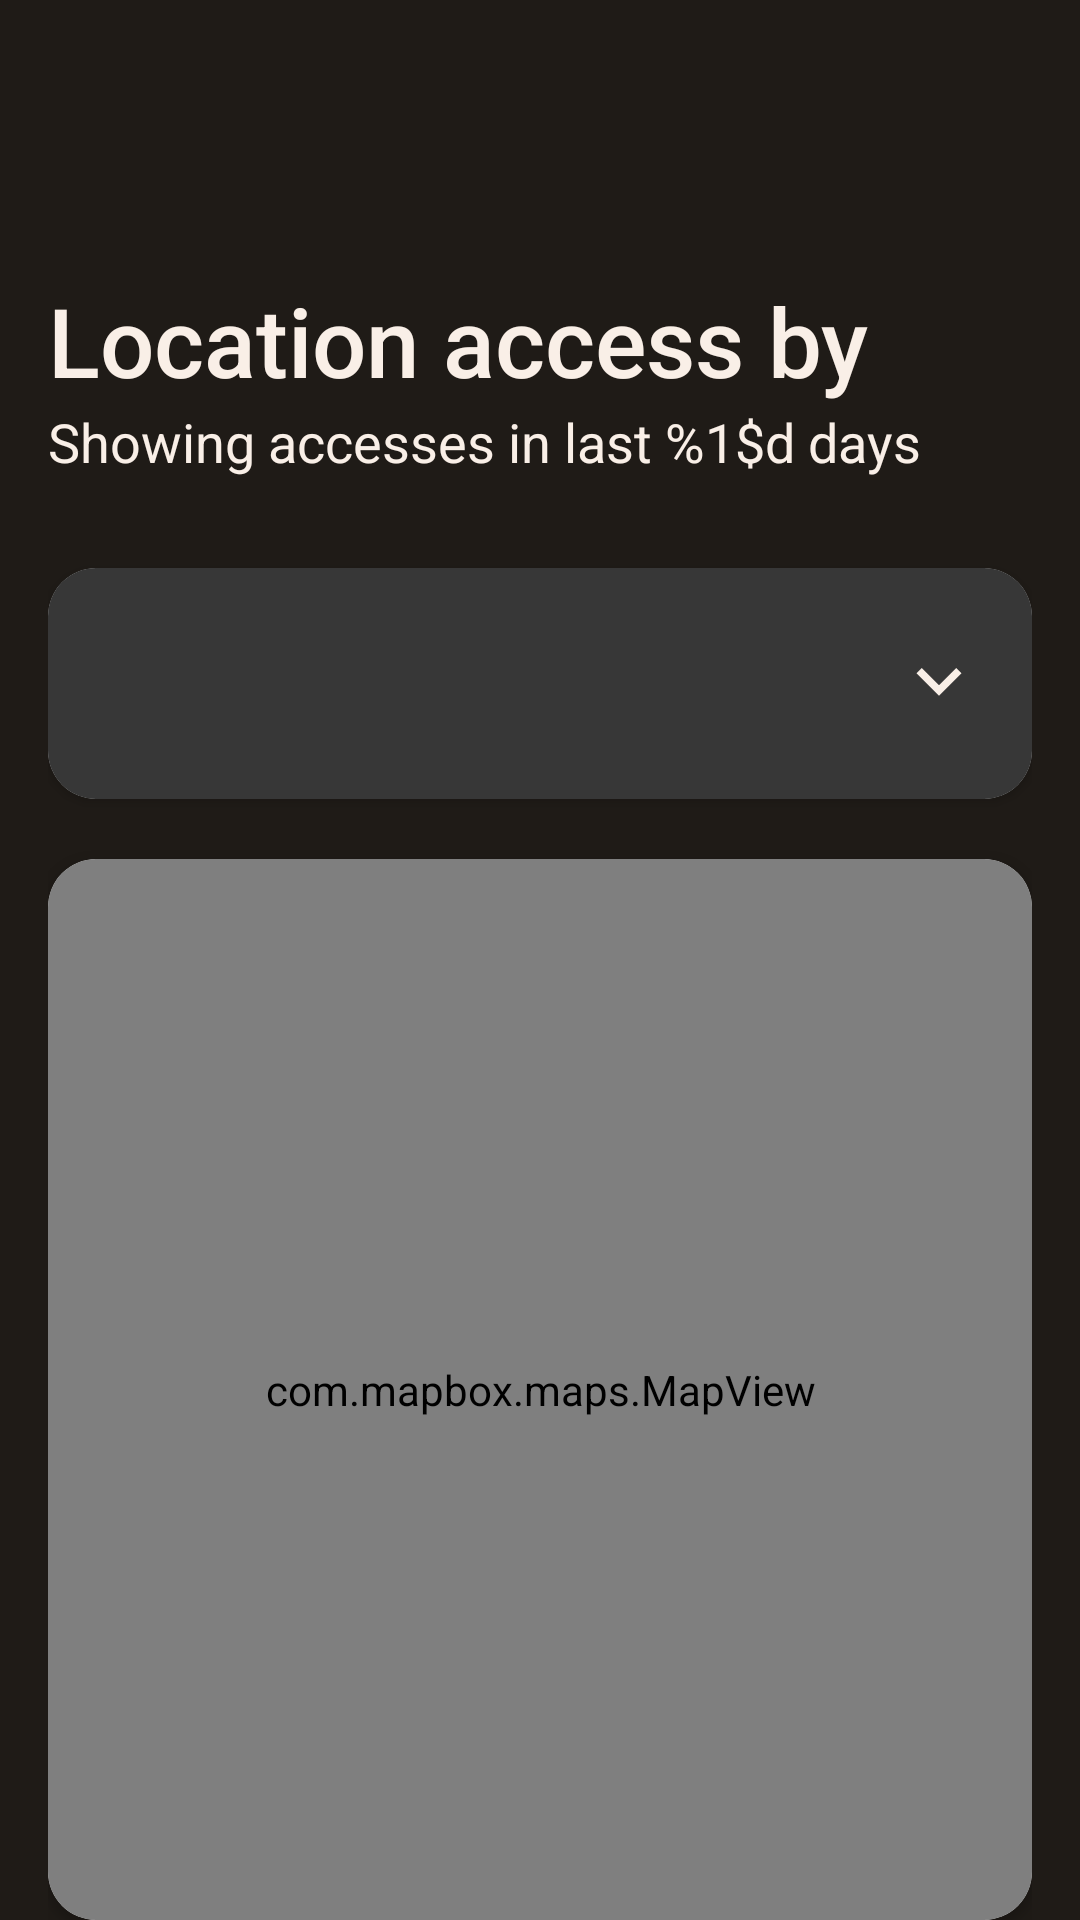

Icons on this 1080*1920 Android screen, each with the point to tap as (x=x, y=y):
chevron down: (x=939, y=682)
